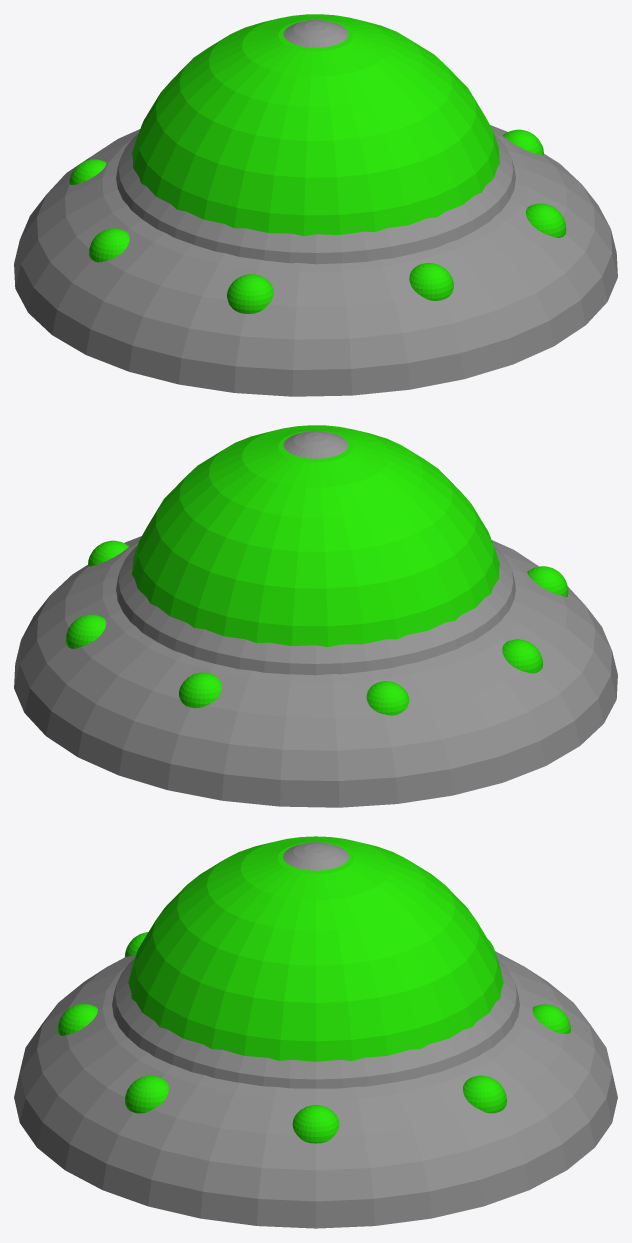
The model's file is EnemyUFODay.fbx.
3 views of the same model, one above another, from view 1: azimuth 30°, elevation 25°; view 2: azimuth 150°, elevation 25°; view 3: azimuth 270°, elevation 25° (orthographic).
Parts seen in each view (by area): view 1: Sphere.001, Sphere, Torus, Sphere.008, Sphere.010, Sphere.005, Sphere.003, Sphere.007, Sphere.002, Sphere.009; view 2: Sphere.001, Sphere, Torus, Sphere.010, Sphere.004, Sphere.009, Sphere.003, Sphere.006, Sphere.008, Sphere.002; view 3: Sphere.001, Sphere, Torus, Sphere.010, Sphere.002, Sphere.007, Sphere.006, Sphere.005, Sphere.004.
Boxes of the visible parts, x1=… form: Sphere.001: x1=14, y1=125, x2=617, y2=396; Sphere: x1=132, y1=14, x2=499, y2=235; Torus: x1=116, y1=134, x2=515, y2=264; Sphere.008: x1=227, y1=274, x2=273, y2=314; Sphere.010: x1=283, y1=19, x2=348, y2=47; Sphere.005: x1=409, y1=263, x2=453, y2=300; Sphere.003: x1=89, y1=228, x2=129, y2=262; Sphere.007: x1=526, y1=203, x2=566, y2=237; Sphere.002: x1=503, y1=129, x2=543, y2=155; Sphere.009: x1=69, y1=159, x2=106, y2=184; Sphere.001: x1=14, y1=536, x2=617, y2=807; Sphere: x1=132, y1=425, x2=499, y2=646; Torus: x1=116, y1=545, x2=515, y2=675; Sphere.010: x1=283, y1=430, x2=348, y2=458; Sphere.004: x1=179, y1=672, x2=221, y2=708; Sphere.009: x1=366, y1=681, x2=409, y2=715; Sphere.003: x1=502, y1=639, x2=542, y2=673; Sphere.006: x1=65, y1=614, x2=106, y2=648; Sphere.008: x1=527, y1=566, x2=568, y2=596; Sphere.002: x1=88, y1=540, x2=128, y2=566; Sphere.001: x1=14, y1=951, x2=617, y2=1228; Sphere: x1=128, y1=836, x2=503, y2=1061; Torus: x1=112, y1=958, x2=519, y2=1088; Sphere.010: x1=283, y1=842, x2=348, y2=870; Sphere.002: x1=292, y1=1105, x2=339, y2=1143; Sphere.007: x1=125, y1=1075, x2=168, y2=1113; Sphere.006: x1=463, y1=1075, x2=506, y2=1113; Sphere.005: x1=57, y1=1003, x2=97, y2=1035; Sphere.004: x1=532, y1=1004, x2=570, y2=1033.
Size of the model in its own units: 316 by 155 by 307.
